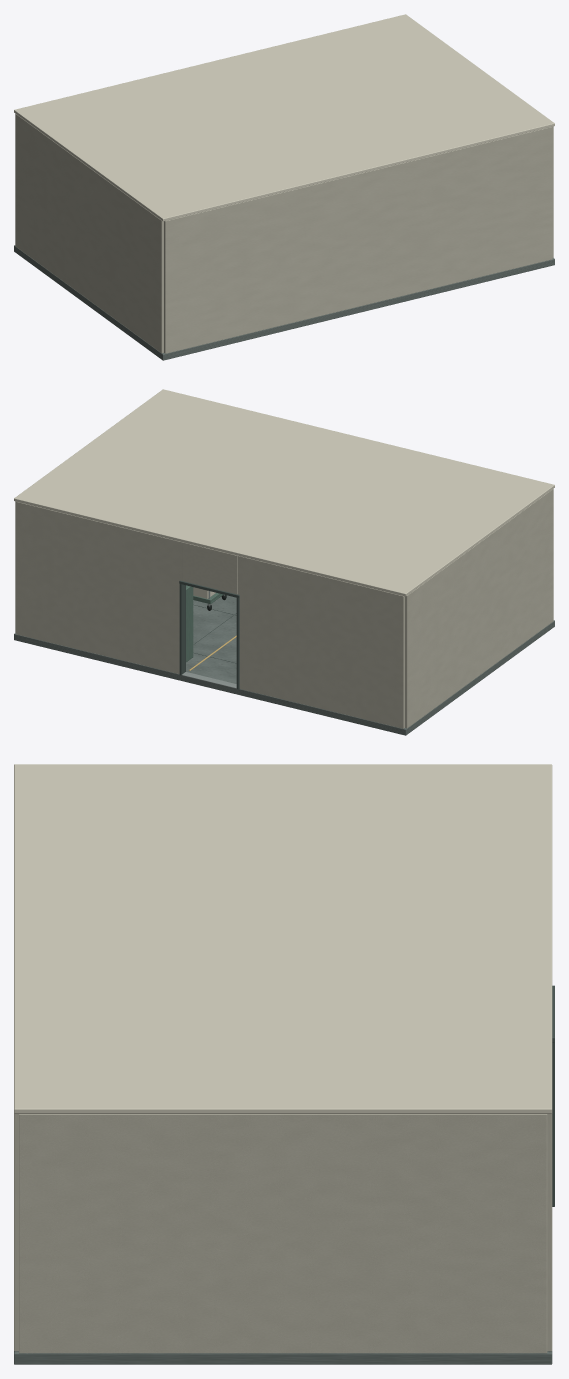
File: room.glb
3 renders of one model, top to bottom at view 1: azimuth 30°, elevation 25°; view 2: azimuth 150°, elevation 25°; view 3: azimuth 270°, elevation 25°, orthographic. The views are drawn at different scales.
Visible parts, largest first — view 1: Interior.Roof, Interior.SouthWall, Interior.WestWall, Interior.ConcreteFoundation; view 2: Interior.Roof, Interior.NorthShell.Workshop_warm_mineral_plaster, Interior.WestWall, Interior.ConcreteFoundation, Interior.NorthShell.Workshop_dark, Interior.utility-cabinet.Workshop_chipped_sage_enamel; view 3: Interior.Roof, Interior.EastWall, Interior.ConcreteFoundation, Interior.NorthShell.Workshop_warm_mineral_plaster, Interior.SouthWall.
Part boxes in pixels (x1,y1,x2,y2): Interior.Roof: [14, 14, 554, 221]; Interior.SouthWall: [164, 126, 552, 353]; Interior.WestWall: [15, 113, 163, 353]; Interior.ConcreteFoundation: [14, 245, 554, 360]; Interior.Roof: [14, 389, 554, 596]; Interior.NorthShell.Workshop_warm_mineral_plaster: [16, 501, 404, 728]; Interior.WestWall: [405, 488, 553, 728]; Interior.ConcreteFoundation: [14, 595, 554, 735]; Interior.NorthShell.Workshop_dark: [179, 580, 239, 689]; Interior.utility-cabinet.Workshop_chipped_sage_enamel: [186, 585, 193, 662]; Interior.Roof: [14, 764, 552, 1113]; Interior.EastWall: [19, 1114, 547, 1353]; Interior.ConcreteFoundation: [14, 1351, 552, 1364]; Interior.NorthShell.Workshop_warm_mineral_plaster: [547, 1113, 552, 1351]; Interior.SouthWall: [14, 1113, 18, 1351].
Bounding box in the file's own units: 11.74 × 4.06 × 7.78.
16 materials, 8 textured.
